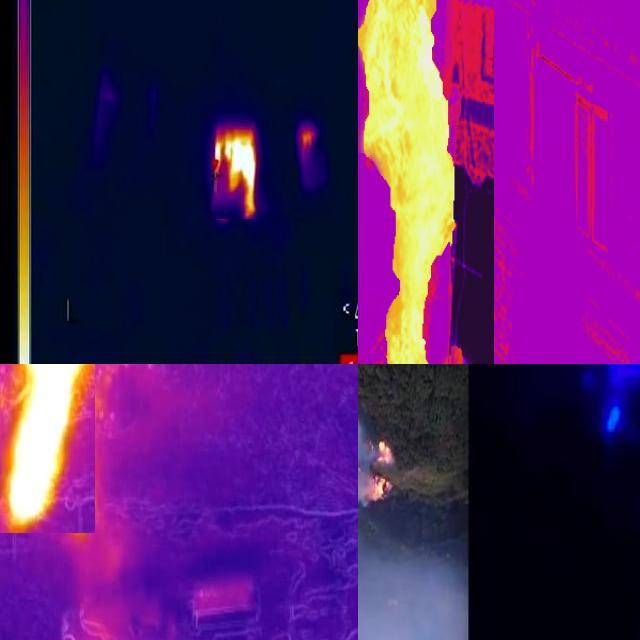fire: (359, 1, 466, 366), (1, 365, 86, 535), (213, 128, 260, 220), (298, 127, 318, 163)
